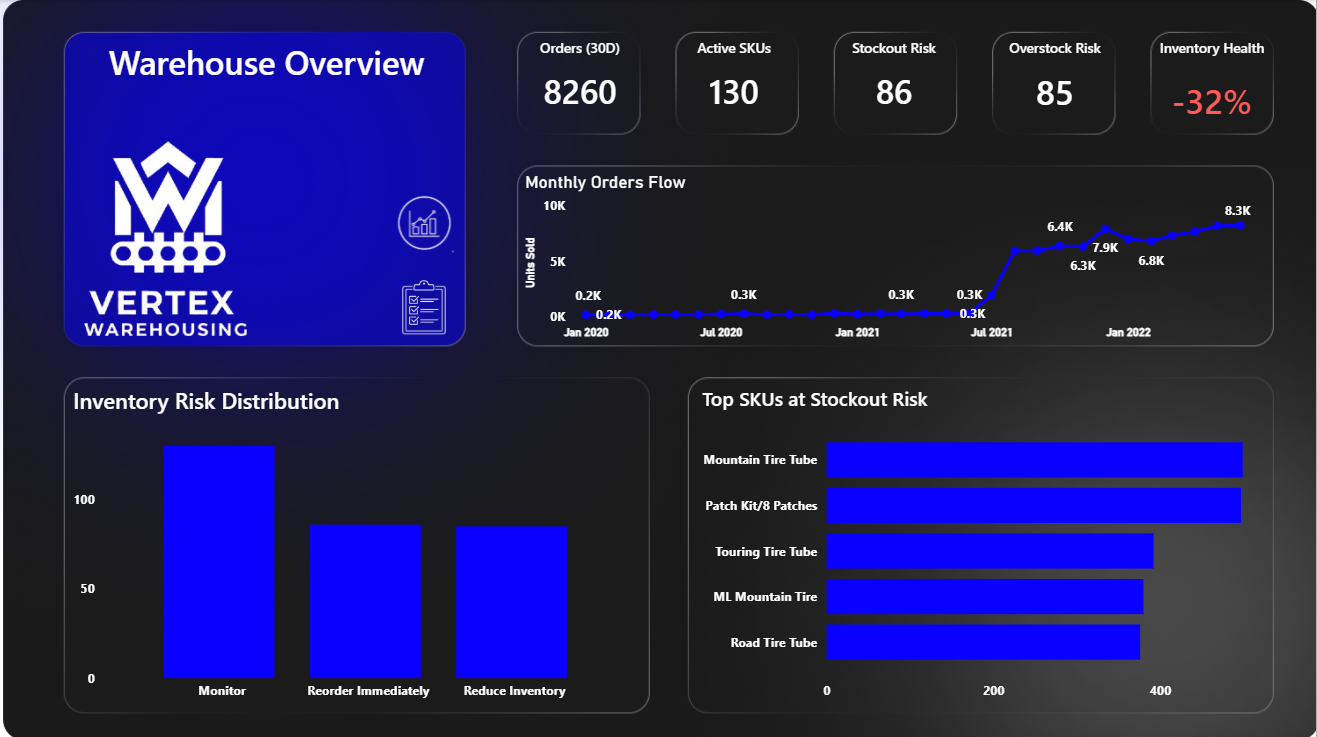

This screenshot's page, from the dashboard's own definition file:
{"tool":"powerbi","page":{"name":"Overview","canvas":[1280,720],"ordinal":0},"visuals":[{"type":"lineChart","title":"Monthly Orders Flow","fields":{"Y":["Sum(vw_warehouse_operations_monthly.total_units_sold)"],"Category":["vw_warehouse_operations_monthly.sales_month"]},"box":[505.8,167.3,727.5,169.2],"z":0},{"type":"card","title":"Orders (30D)","fields":{"Values":["vw_warehouse_operations_monthly.Orders (Last 30 Days)"]},"box":[508.7,37.9,110.9,85.6],"z":1000},{"type":"card","title":"Active SKUs","fields":{"Values":["vw_warehouse_operations_monthly.Active SKUs"]},"box":[656.5,37.9,114.8,85.6],"z":2000},{"type":"card","title":"Stockout Risk","fields":{"Values":["vw_warehouse_operations_monthly.Stockout Risk SKUs"]},"box":[812.2,37.9,114.8,85.6],"z":3000},{"type":"card","title":"Overstock Risk","fields":{"Values":["vw_warehouse_operations_monthly.Overstock Risk SKUs"]},"box":[966.8,37.9,118.7,85.6],"z":4000},{"type":"card","title":"Inventory Health ","fields":{"Values":["vw_warehouse_operations_monthly.Inventory Health Score"]},"box":[1121.5,37.9,114.8,85.6],"z":5000},{"type":"columnChart","title":"Inventory Risk Distribution","fields":{"Y":["Count(vw_warehouse_operations_monthly.product_sku)"],"Category":["vw_warehouse_operations_monthly.recommended_action"]},"box":[66.1,374.5,553.4,315.1],"z":6000},{"type":"barChart","title":"Top SKUs at Stockout Risk","fields":{"Category":["vw_warehouse_operations_monthly.product_name"],"Y":["Sum(vw_warehouse_operations_monthly.total_units_sold)"]},"box":[677.9,374.5,547.6,315.1],"z":7000},{"type":"textbox","title":"Warehouse Overview","box":[66.1,37.9,386.1,85.6],"z":8000},{"type":"actionButton","box":[362.8,181.9,99.2,70],"z":9000},{"type":"actionButton","box":[362.8,251.9,99.2,99.2],"z":10000},{"type":"image","box":[9.7,133.3,299.6,203.3],"z":11000}]}

Visuals, with their boxes in screenshot pixels (x1, y1, x2, y2), scaled from the page's 1280x720 canvas onto the 1317x737 screenshot:
"Monthly Orders Flow" lineChart: bbox=(520, 171, 1269, 344)
"Orders (30D)" card: bbox=(523, 39, 638, 126)
"Active SKUs" card: bbox=(675, 39, 794, 126)
"Stockout Risk" card: bbox=(836, 39, 954, 126)
"Overstock Risk" card: bbox=(995, 39, 1117, 126)
"Inventory Health " card: bbox=(1154, 39, 1272, 126)
"Inventory Risk Distribution" columnChart: bbox=(68, 383, 637, 706)
"Top SKUs at Stockout Risk" barChart: bbox=(697, 383, 1261, 706)
"Warehouse Overview" textbox: bbox=(68, 39, 465, 126)
actionButton: bbox=(373, 186, 475, 258)
actionButton: bbox=(373, 258, 475, 359)
image: bbox=(10, 136, 318, 345)
